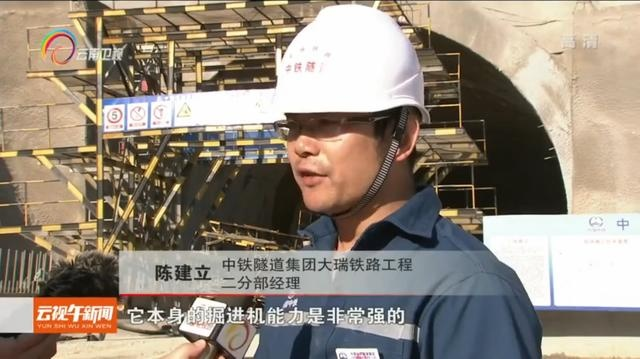white: (274, 1, 434, 217)
